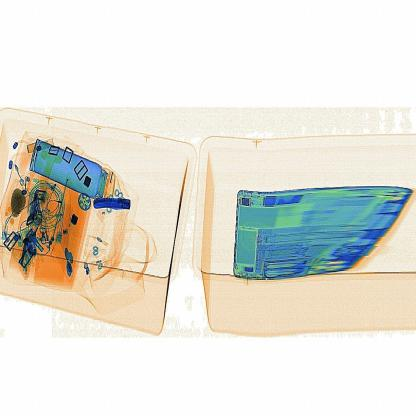knife: (90, 194, 134, 220)
